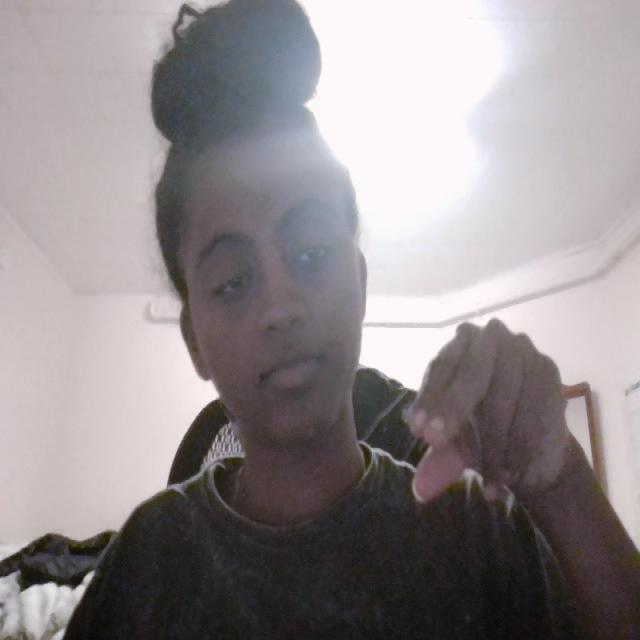no: (390, 290, 625, 542)
